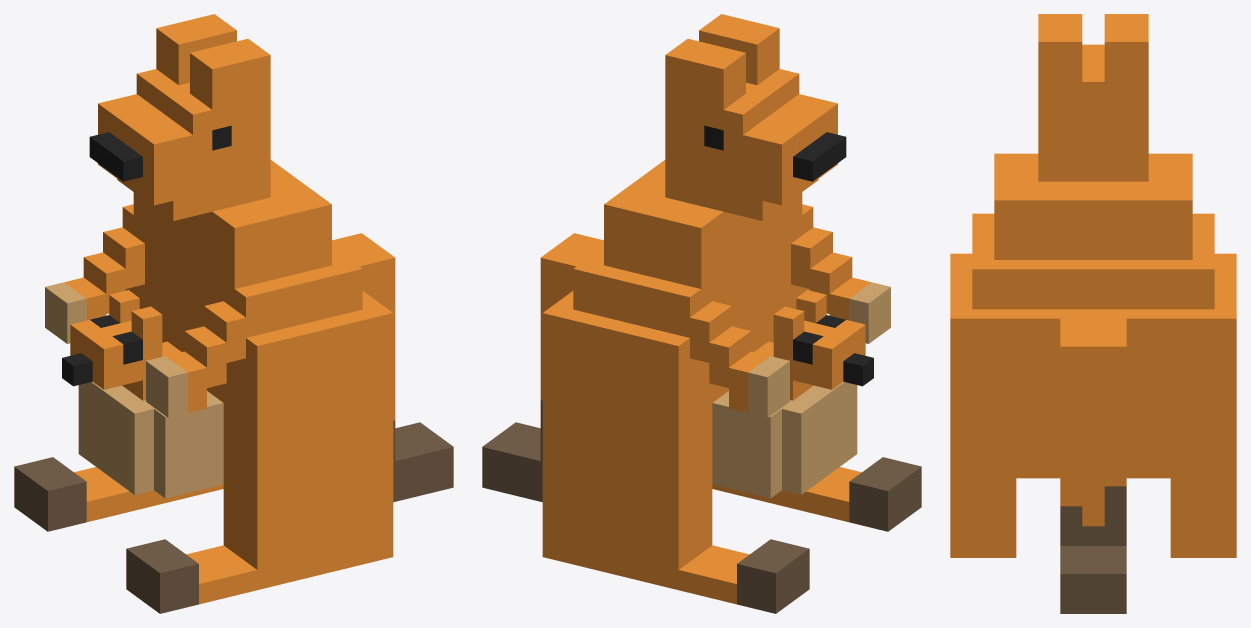
The model's file is Kangaroo.obj.
The picture shows the model from 3 angles, left to right: view 1: azimuth 30°, elevation 25°; view 2: azimuth 150°, elevation 25°; view 3: azimuth 270°, elevation 25°; orthographic projection.
Visible parts, largest first — view 1: Kangaroo; view 2: Kangaroo; view 3: Kangaroo.
Boxes of the visible parts, box(x1,y1,x2,y2) form: Kangaroo: box(14, 14, 453, 613); Kangaroo: box(482, 14, 921, 613); Kangaroo: box(950, 14, 1236, 613).
Size of the model in its own units: 19 by 24 by 13.
1 material, 1 textured.
